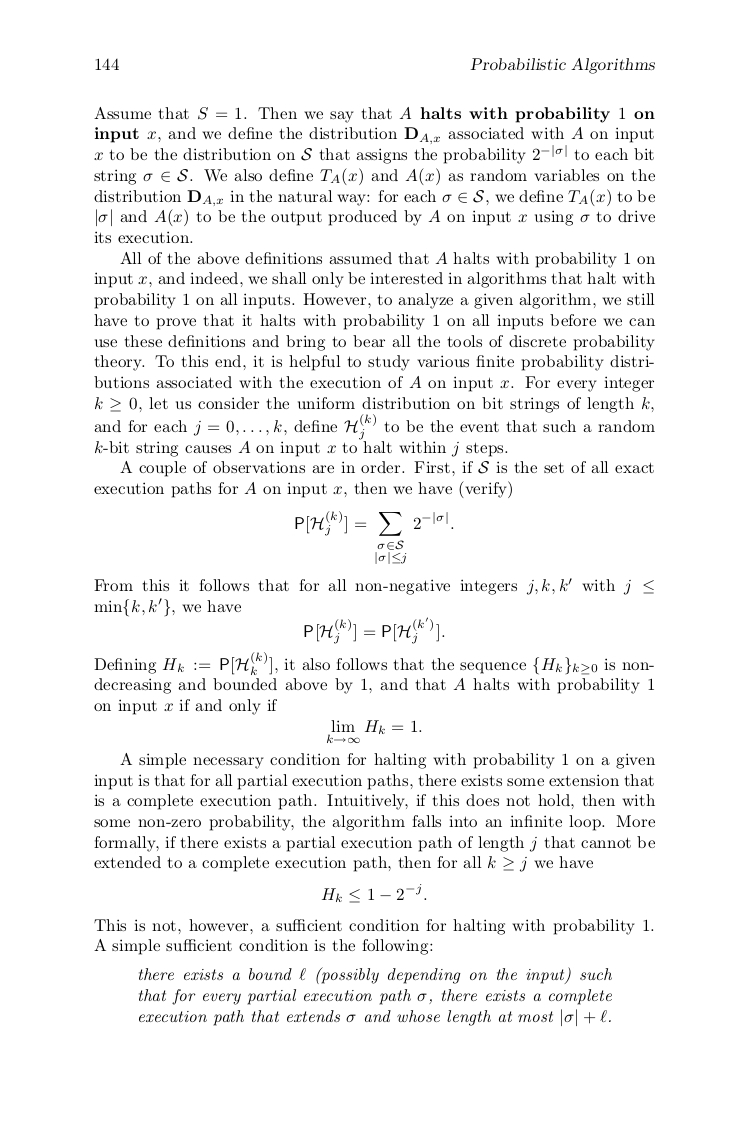formula: (295, 511, 453, 563), (304, 617, 444, 643), (327, 719, 421, 744), (321, 885, 426, 903)
